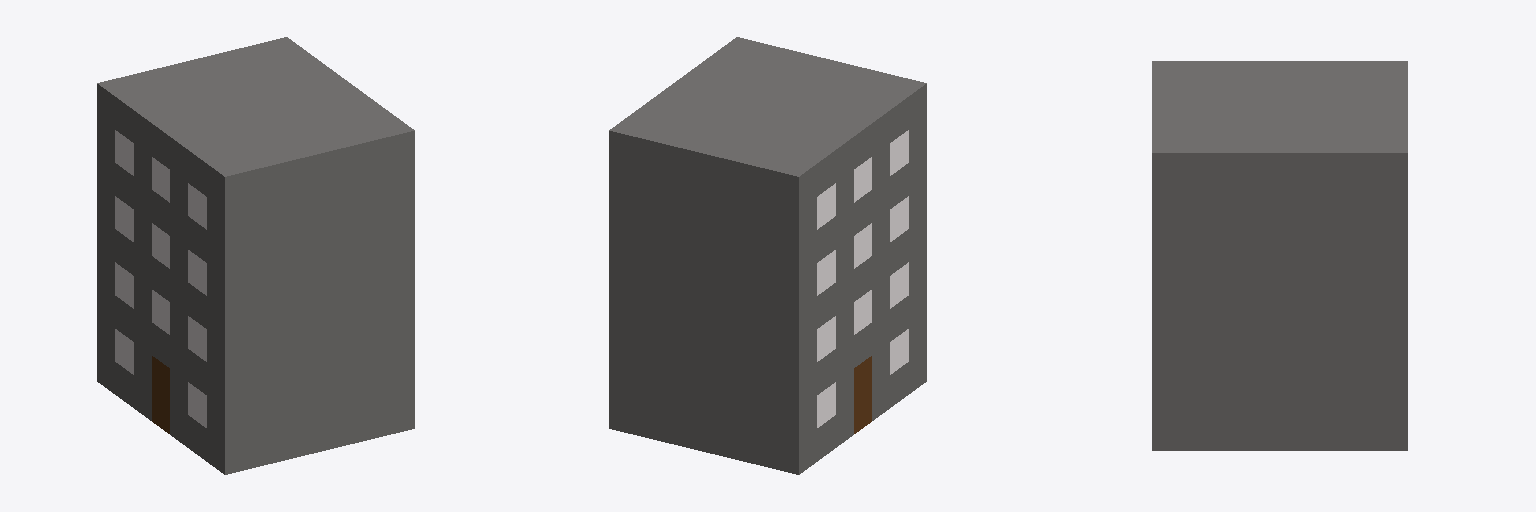
3 renders of one model, left to right at view 1: azimuth 30°, elevation 25°; view 2: azimuth 150°, elevation 25°; view 3: azimuth 270°, elevation 25°, orthographic.
Visible parts, largest first — view 1: Model; view 2: Model; view 3: Model.
Part boxes in pixels (x1,y1,x2,y2): Model: (97,37,414,474); Model: (609,37,926,474); Model: (1152,61,1407,450).
Bounding box in the file's own units: 12 × 18 × 14.
Materials: 1 (1 with a texture image).